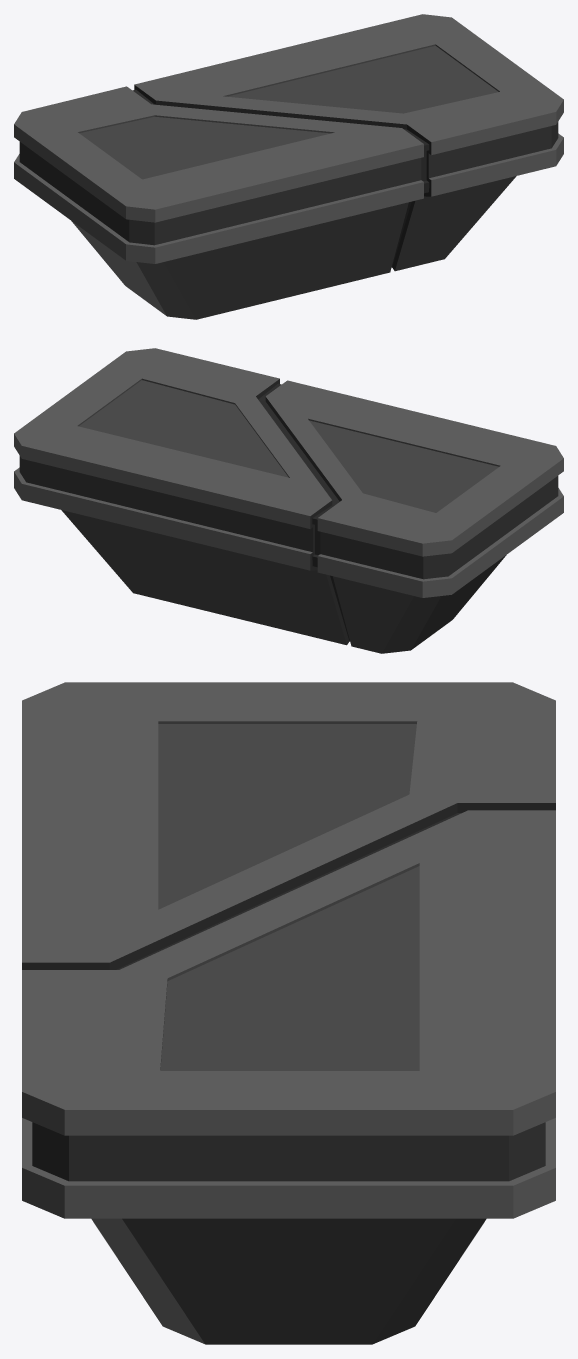
File: table_A.FBX
3 renders of one model, top to bottom at view 1: azimuth 30°, elevation 25°; view 2: azimuth 150°, elevation 25°; view 3: azimuth 270°, elevation 25°, orthographic. The views are drawn at different scales.
Visible parts, largest first — view 1: table_A; view 2: table_A; view 3: table_A.
Part boxes in pixels (x1,y1,x2,y2): table_A: (14, 14, 563, 319); table_A: (14, 348, 563, 653); table_A: (22, 682, 555, 1344).
Bounding box in the file's own units: 119 × 40.16 × 62.88.
